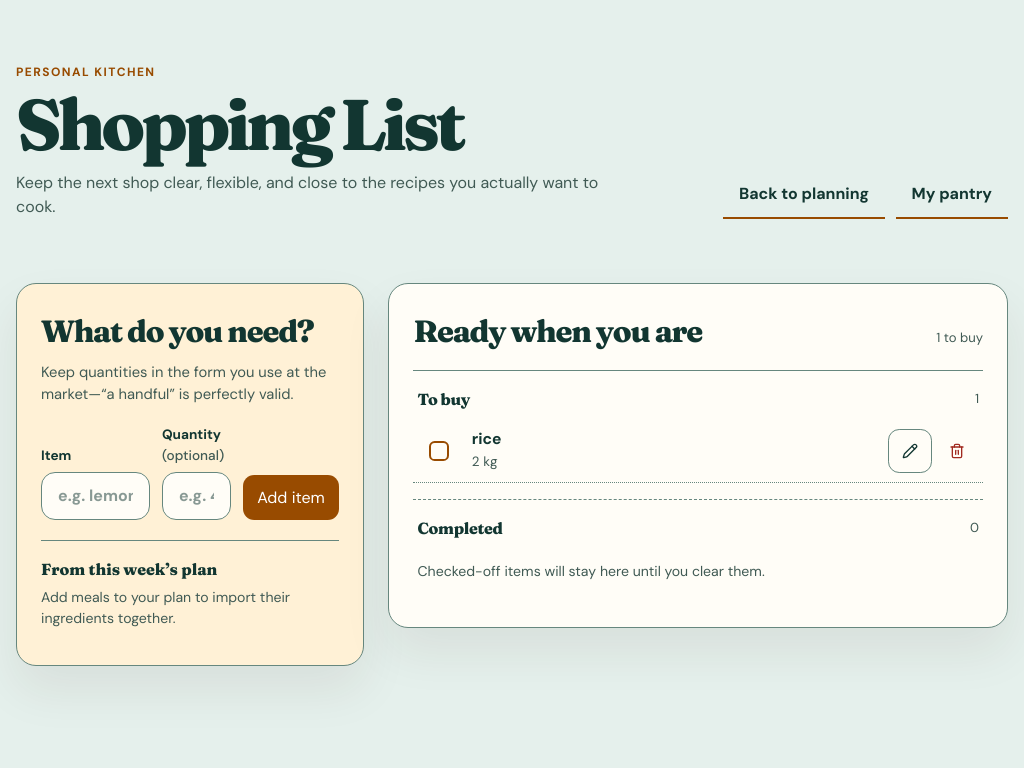
ShoppingListPage › keeps an edit open after a failed save so the cook can retry
The image size is (1024, 768).
Click the button named "Edit rice" at x=910, y=451, box [888, 429, 932, 473]
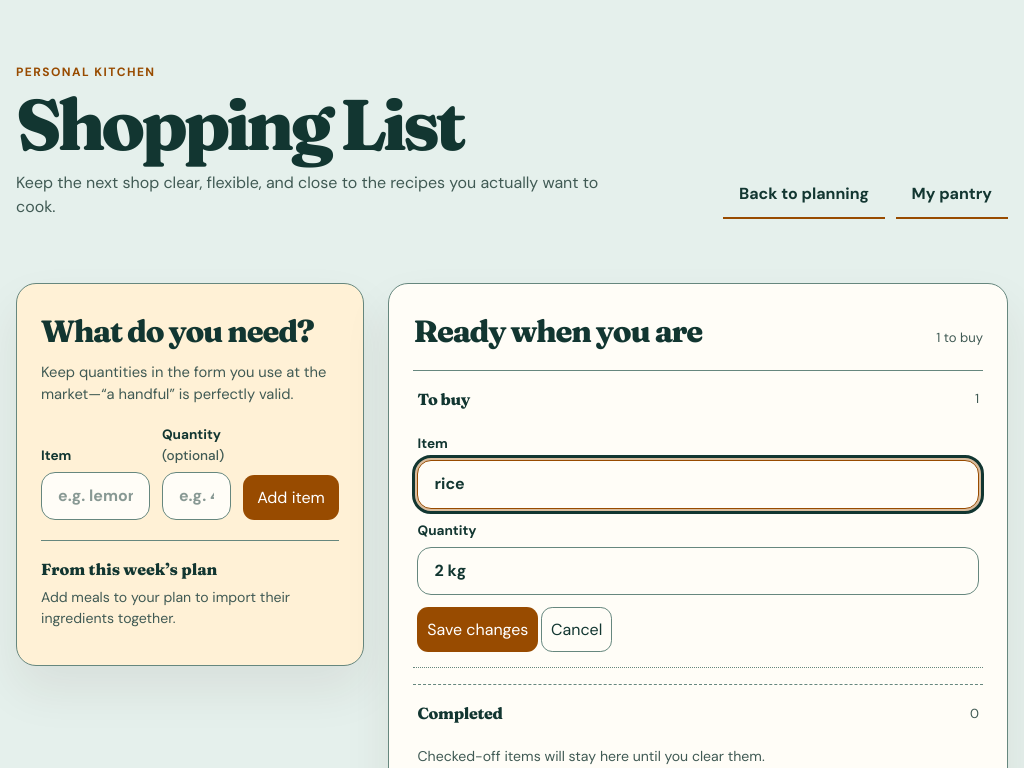
Replace the text in the field showing "rice" below "Ready when you are" with "brown rice" at x=698, y=484, box [418, 460, 979, 509]
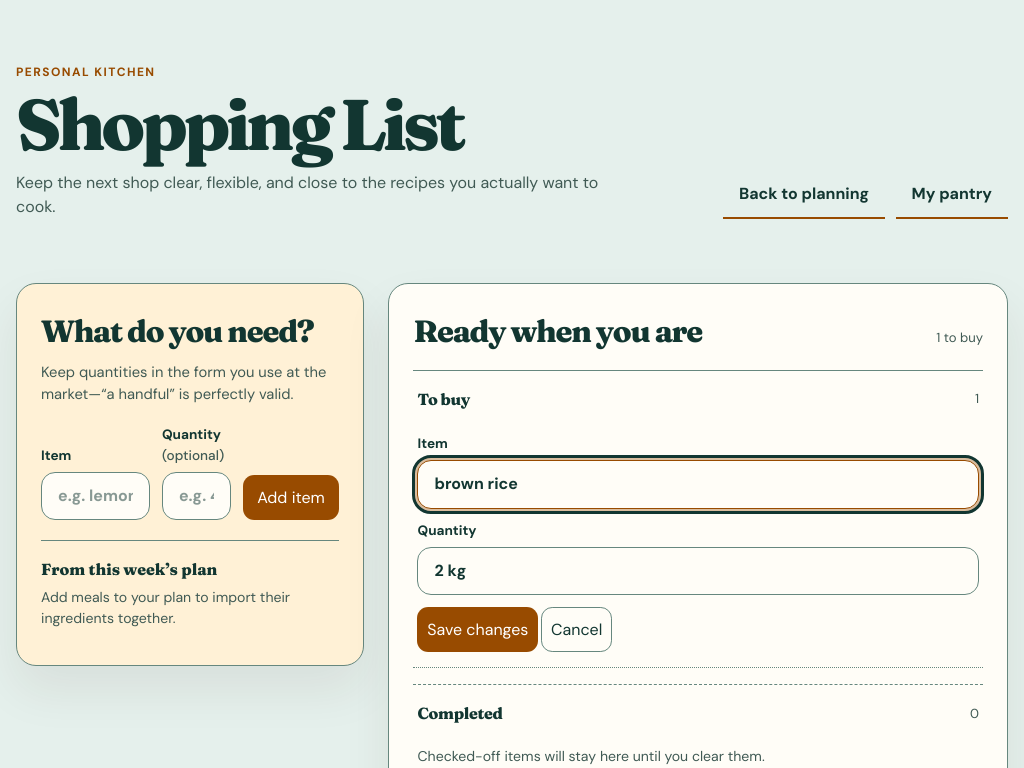
Click the button "Save changes" at x=478, y=630, box [418, 607, 538, 652]
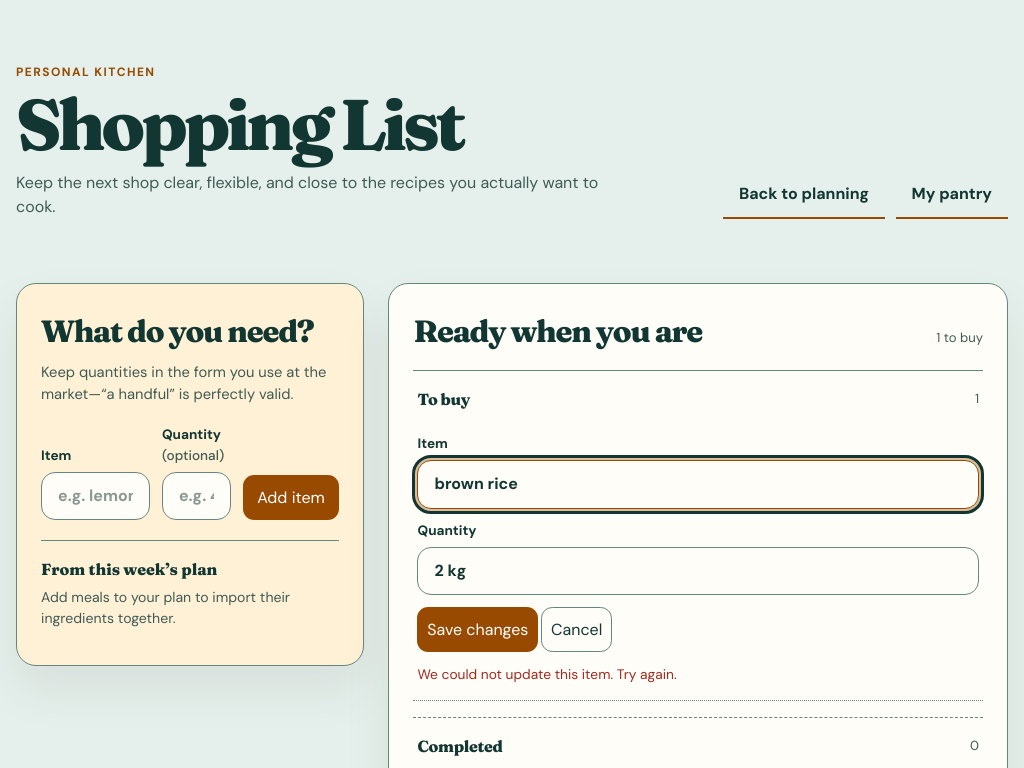
Now the message reads "We could not update this item. Try again.", box [418, 665, 677, 683]
Click the button "Save changes" at x=478, y=630, box [418, 607, 538, 652]
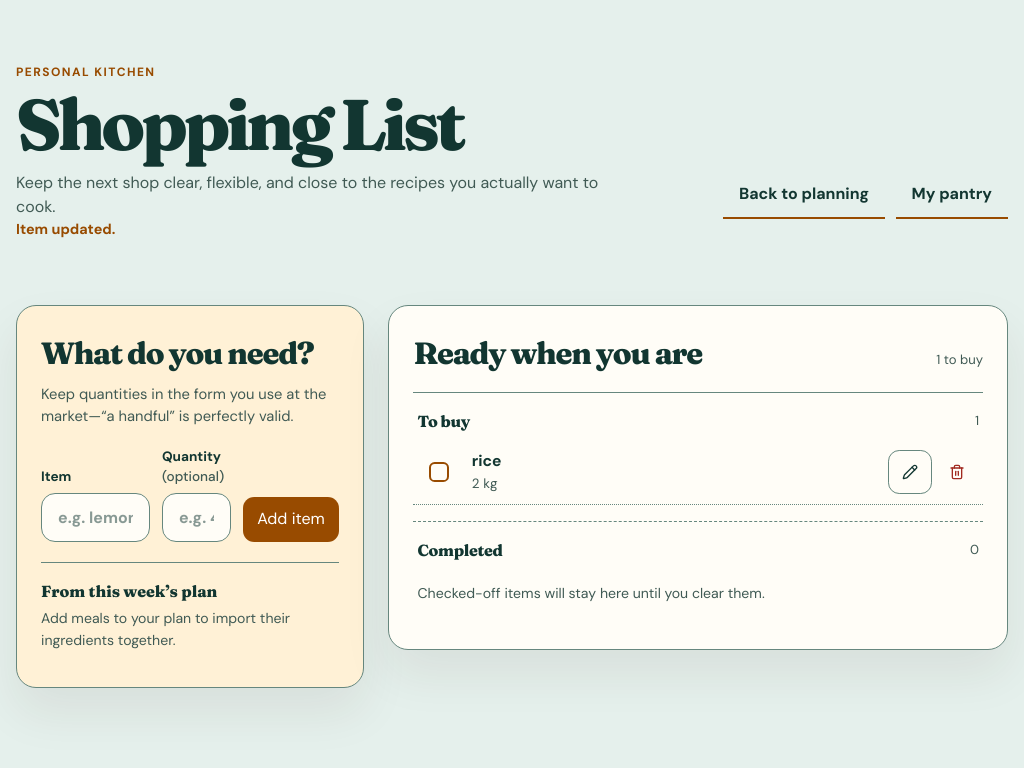
Now the button "Save changes" is gone
Now the message reads "Item updated.", box [16, 220, 115, 238]
